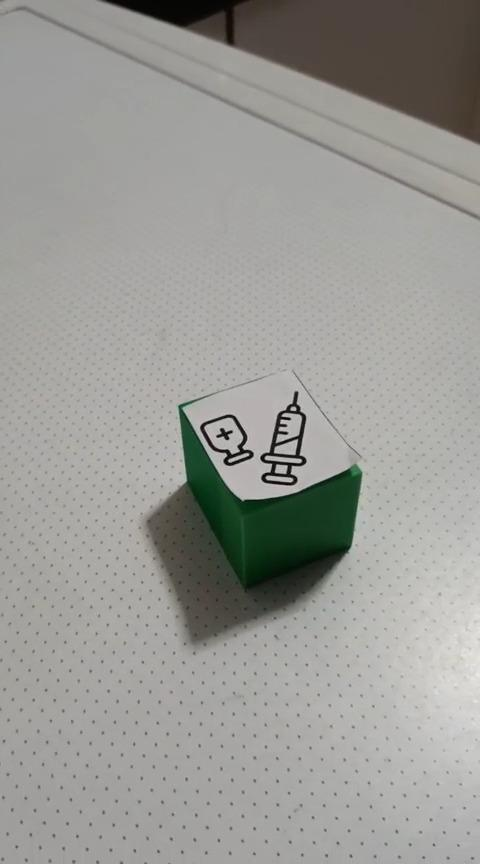antiseptic cream: (176, 367, 363, 591)
